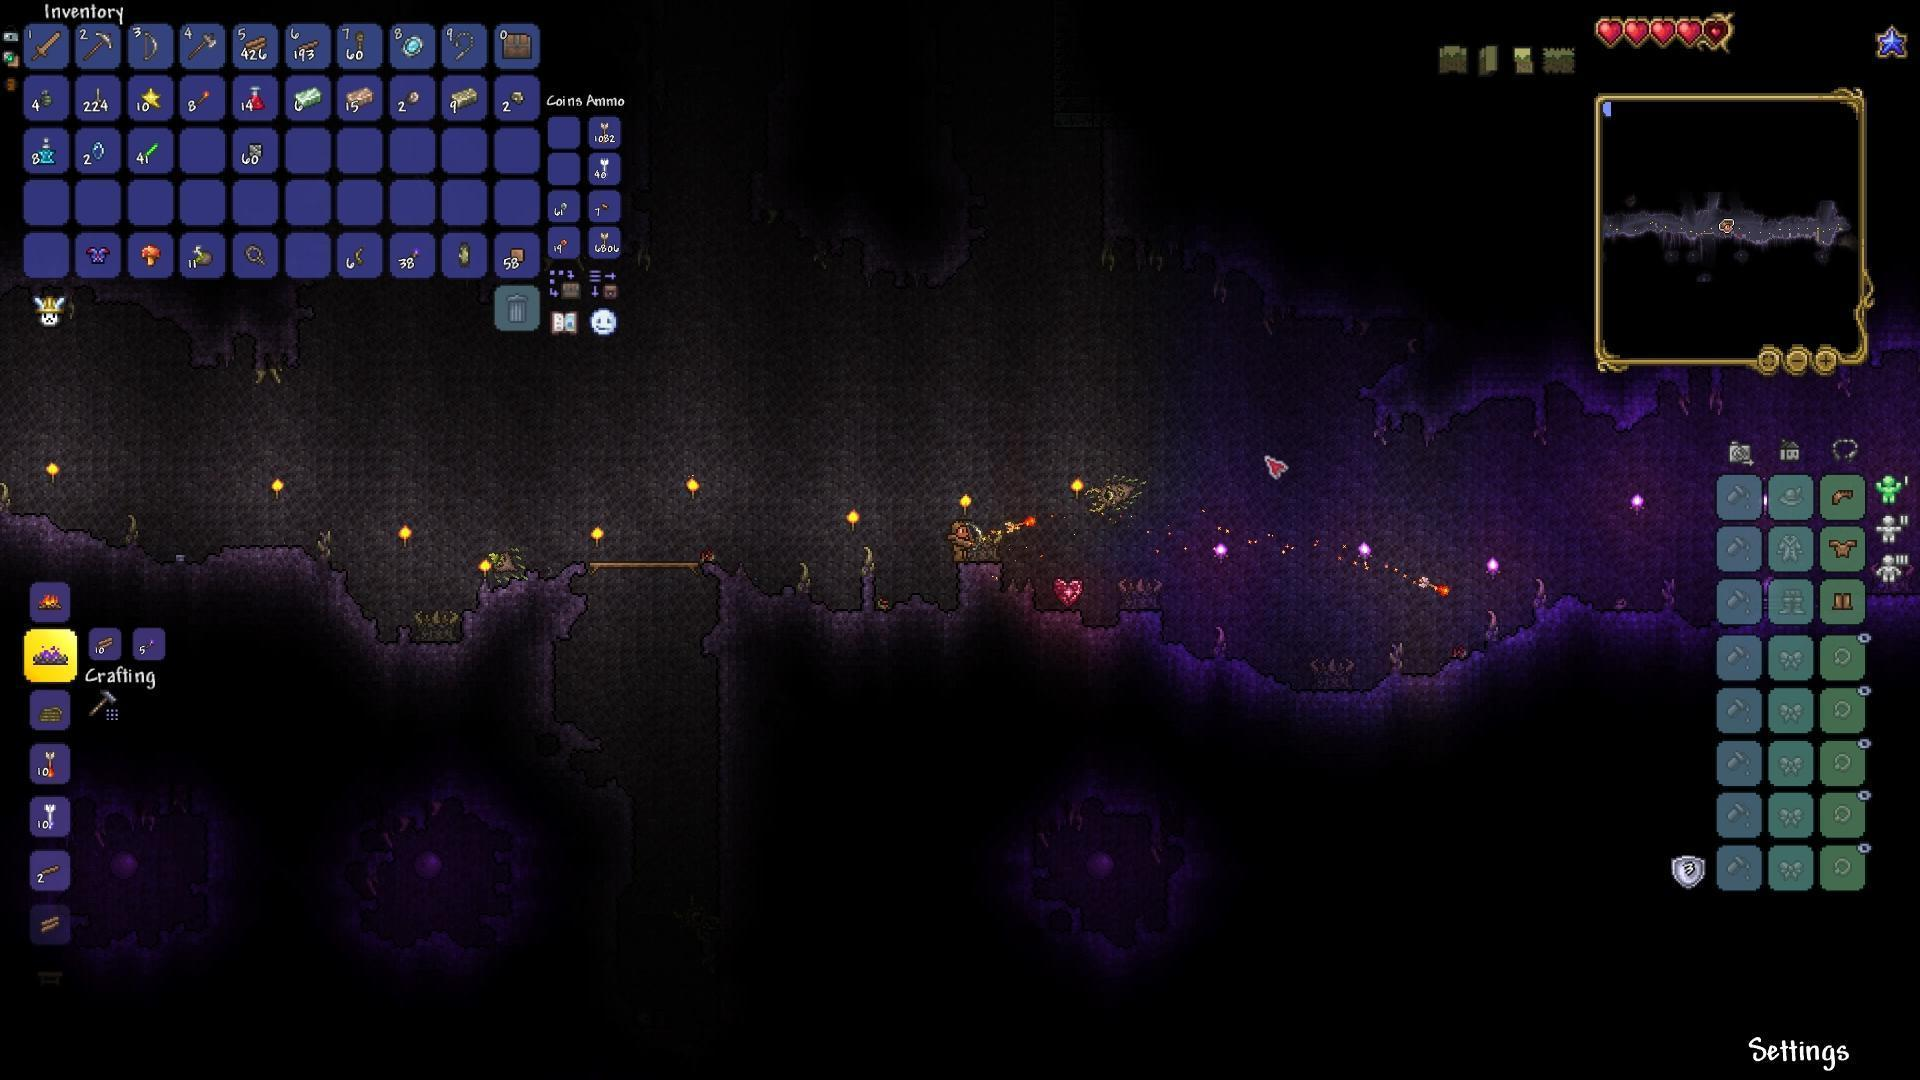crimera: (1076, 459, 1145, 526)
potion: (245, 80, 265, 112)
recallP: (37, 135, 58, 165)
